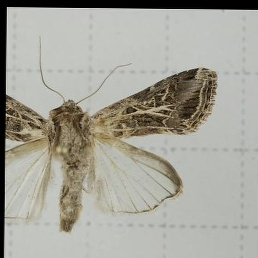Spodoptera litura: (5, 34, 217, 234)
